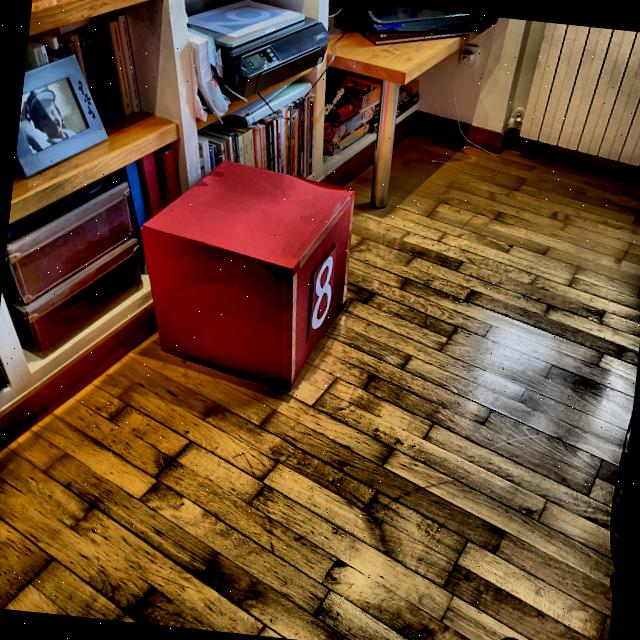eight: (308, 252, 336, 332)
red box: (127, 151, 360, 397)
